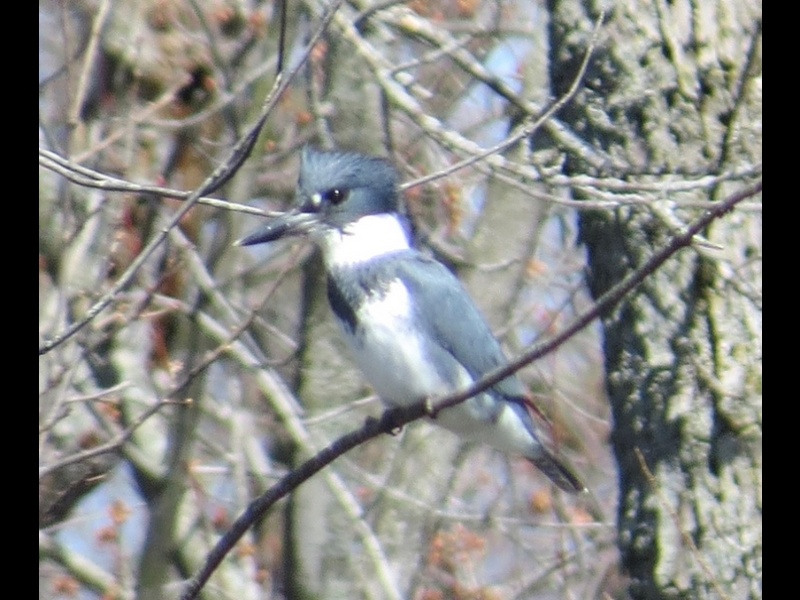kingfisher: (231, 148, 589, 499)
